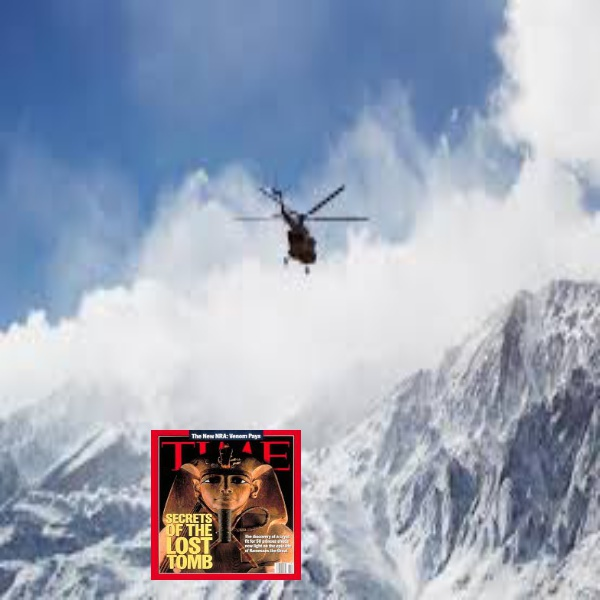time_cover: (142, 427, 317, 586)
